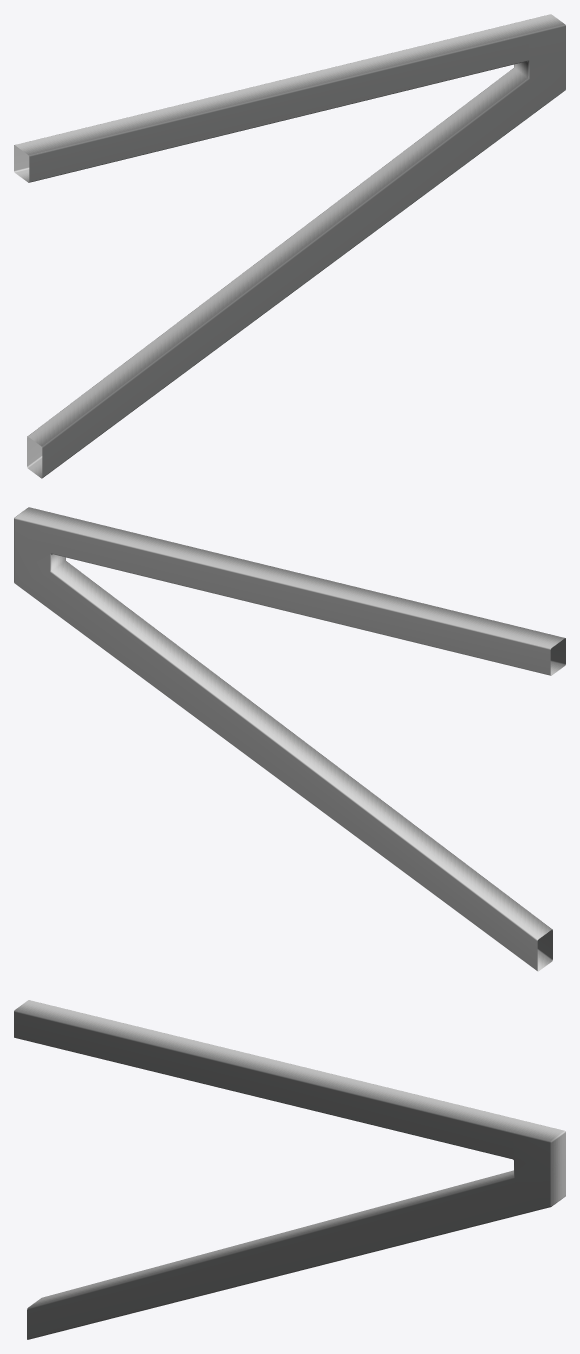
The model's file is SM_overhangSupport.fbx.
3 views of the same model, one above another, from view 1: azimuth 30°, elevation 25°; view 2: azimuth 150°, elevation 25°; view 3: azimuth 330°, elevation 25° (orthographic).
Parts seen in each view (by area): view 1: SM_overhangSupport; view 2: SM_overhangSupport; view 3: SM_overhangSupport.
Part boxes in pixels (x1,y1,x2,y2): SM_overhangSupport: [14, 14, 565, 478]; SM_overhangSupport: [14, 507, 565, 971]; SM_overhangSupport: [14, 1000, 565, 1339].
Size of the model in its own units: 120 by 69.72 by 5.9.
